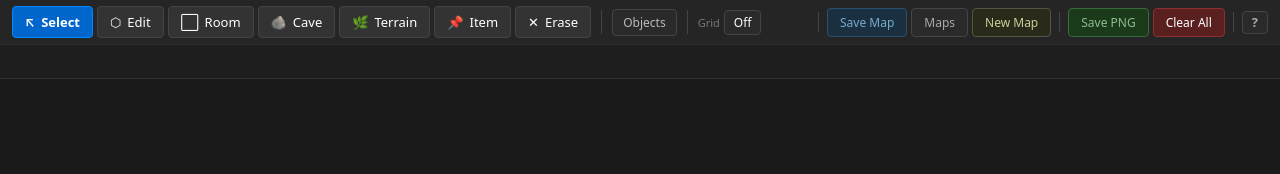
Toolbar — save dialog › shows first-save dialog when Save Map clicked with no currentMapId
The width and height of the screenshot is (1280, 174).
Click the button "Save Map". click: (867, 22)
box: [827,8,907,36]
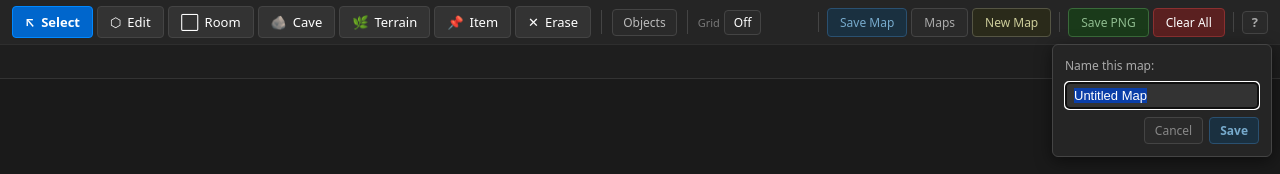
Check: the text "Name this map:" is shown, box [1065,57,1154,74]
